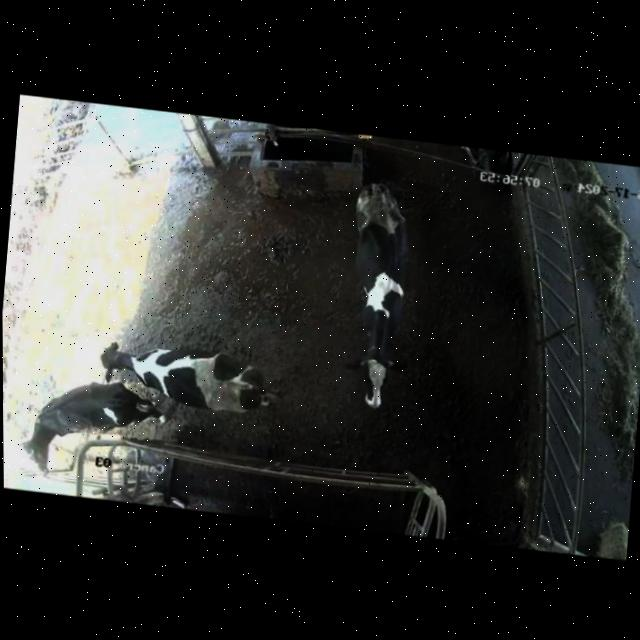stand: (311, 165, 445, 425), (90, 302, 294, 419), (14, 365, 166, 490)
